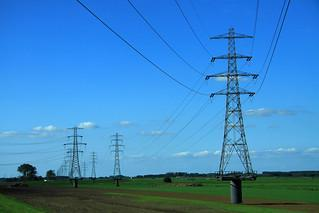power_tower: (204, 26, 268, 181), (65, 122, 85, 183), (109, 130, 125, 181)
